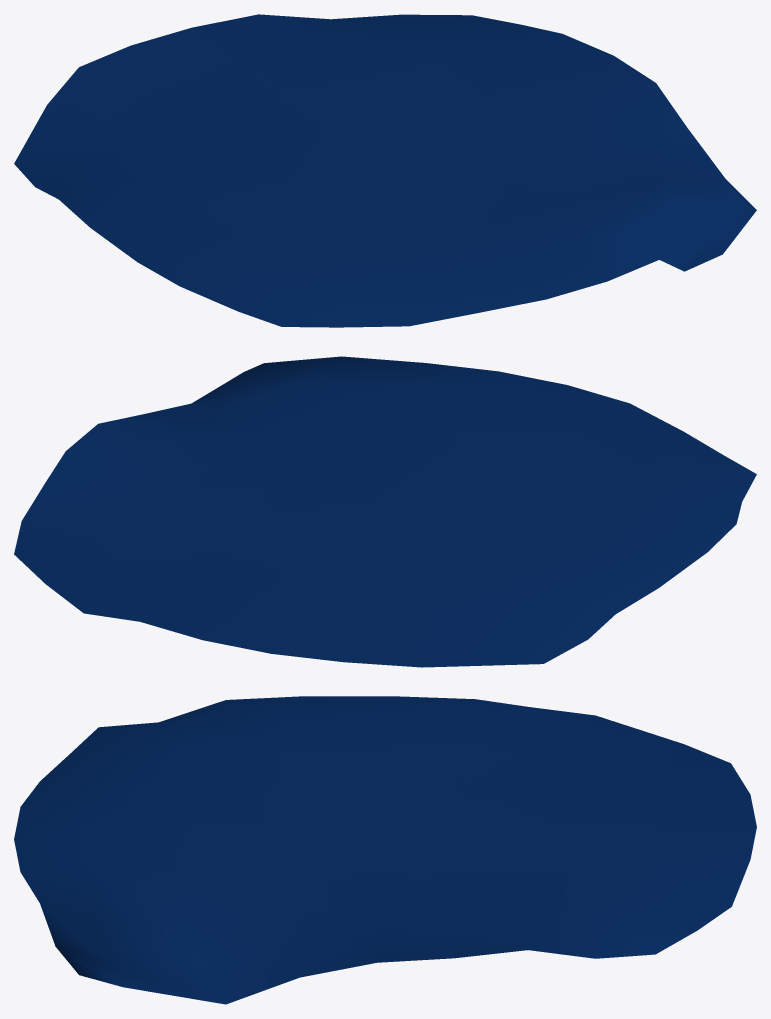
The model's file is Lac2.fbx.
The picture shows the model from 3 angles, top to bottom: view 1: azimuth 30°, elevation 25°; view 2: azimuth 150°, elevation 25°; view 3: azimuth 270°, elevation 25°; orthographic projection. The views are drawn at different scales.
Parts seen in each view (by area): view 1: Lac; view 2: Lac; view 3: Lac.
Part boxes in pixels (box(x1,y1,x2,y2)): Lac: box(14, 14, 756, 327); Lac: box(14, 356, 756, 667); Lac: box(14, 696, 756, 1004).
Bounding box in the file's own units: 33.09 × 2.87 × 36.61.
